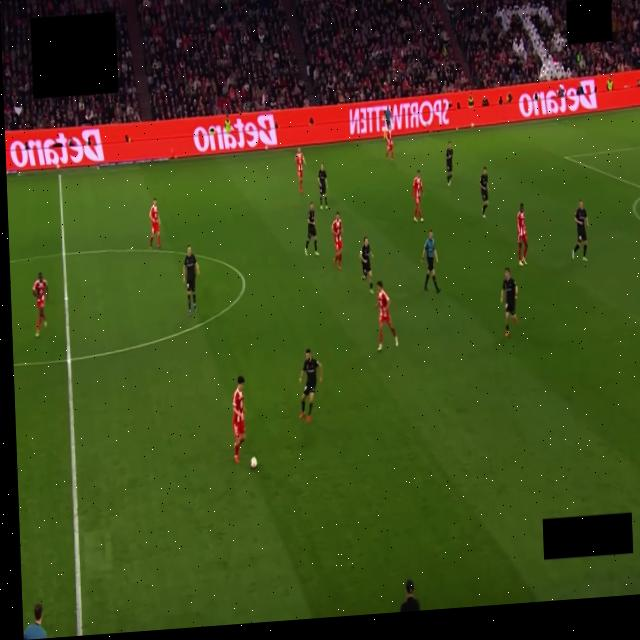ball: (250, 457, 256, 469)
player: (299, 349, 322, 422), (376, 281, 397, 351), (182, 246, 199, 315), (500, 268, 517, 337), (232, 376, 244, 463), (572, 201, 588, 261), (32, 273, 47, 336), (359, 238, 372, 293), (304, 203, 317, 256), (412, 169, 425, 222), (516, 204, 527, 265), (149, 198, 160, 249), (331, 213, 341, 269), (479, 167, 488, 218), (317, 164, 327, 209), (295, 148, 305, 193), (446, 142, 452, 186), (385, 130, 393, 161)
referee: (421, 231, 439, 293)
